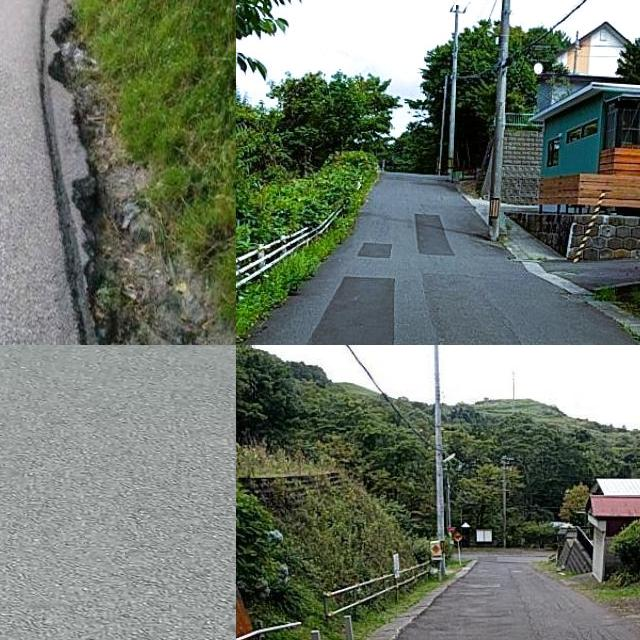Pinggir: (15, 0, 184, 345)
Sambungan: (412, 210, 452, 255), (363, 239, 394, 261)
